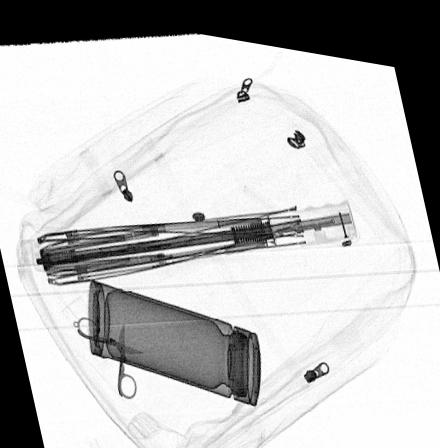Scissors: (75, 313, 145, 397)
